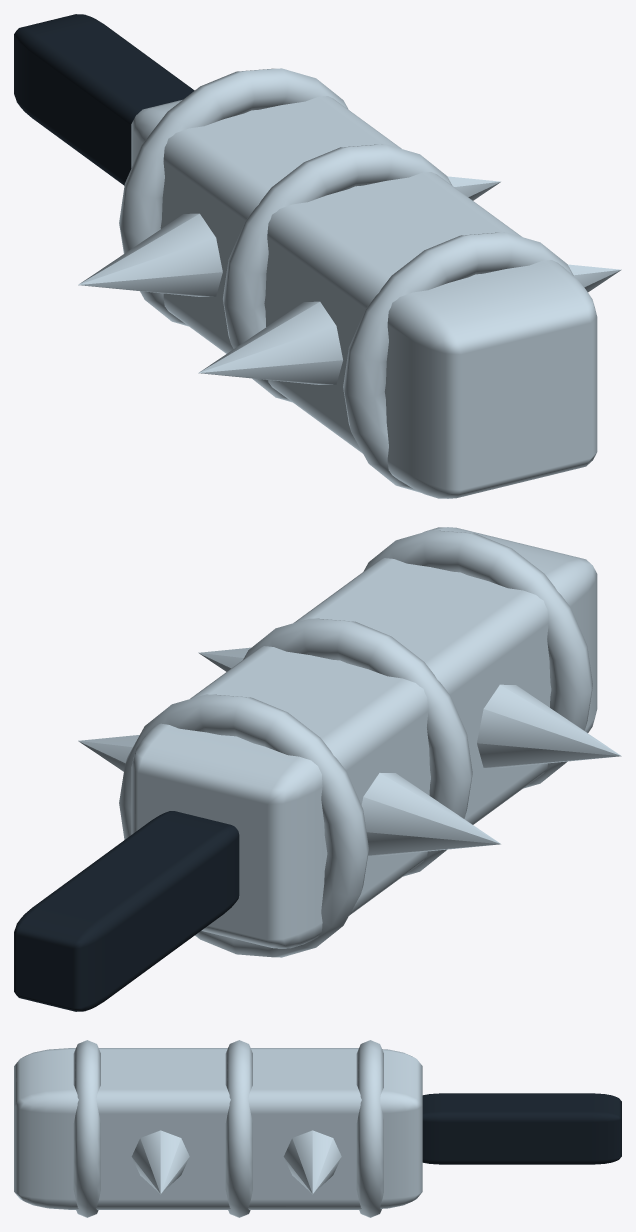
File: bat-1.glb
The picture shows the model from 3 angles, top to bottom: view 1: azimuth 30°, elevation 25°; view 2: azimuth 150°, elevation 25°; view 3: azimuth 270°, elevation 25°; orthographic projection. The views are drawn at different scales.
Size of the model in its own units: 0.5989 by 0.3471 by 1.18.
